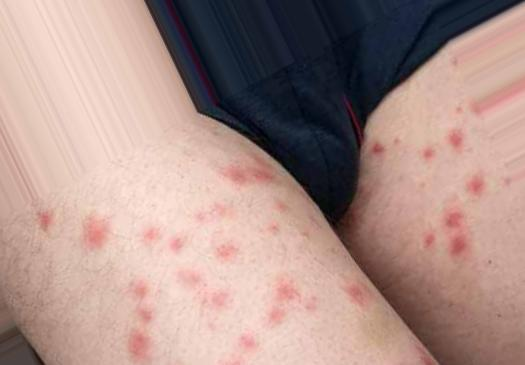Fleas: (75, 213, 113, 254), (220, 165, 282, 183), (126, 326, 155, 363), (202, 200, 239, 227), (345, 278, 372, 311), (265, 196, 296, 223), (176, 269, 208, 292), (31, 204, 57, 230), (214, 242, 246, 263), (413, 340, 440, 364), (134, 304, 157, 329), (275, 280, 300, 303), (442, 205, 463, 232), (466, 172, 485, 198), (445, 126, 464, 152), (265, 306, 287, 328), (448, 233, 468, 257), (262, 220, 287, 238), (166, 232, 186, 252), (203, 294, 226, 311), (239, 332, 258, 352), (130, 280, 148, 297), (368, 139, 384, 157), (422, 230, 435, 249), (142, 227, 158, 240), (422, 147, 435, 160), (302, 301, 315, 311)
